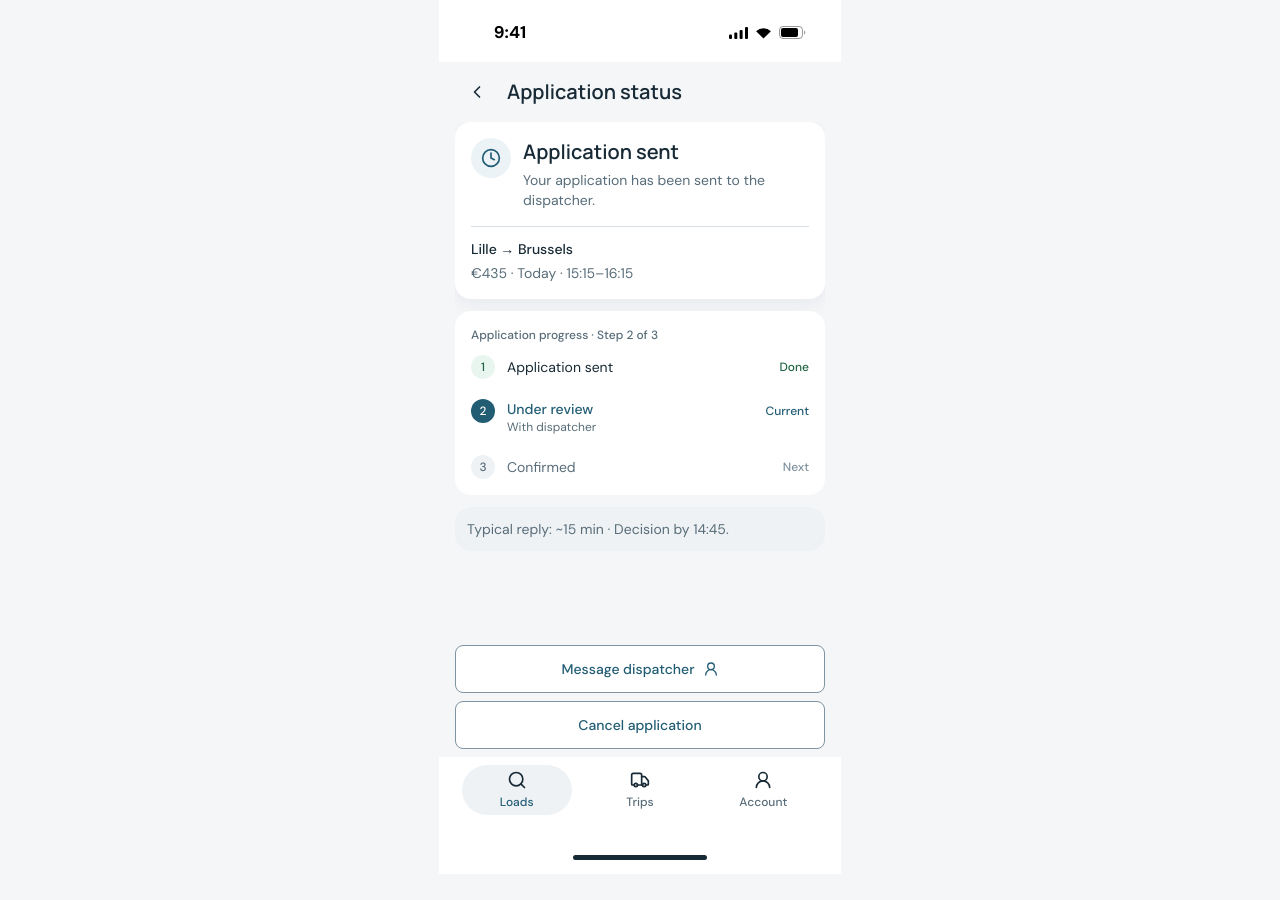
Test: ApplicationTrackerView cancel confirmation › keeps the application when the sheet is dismissed
Click the button "Cancel application" at (640, 725), box [455, 701, 825, 749]
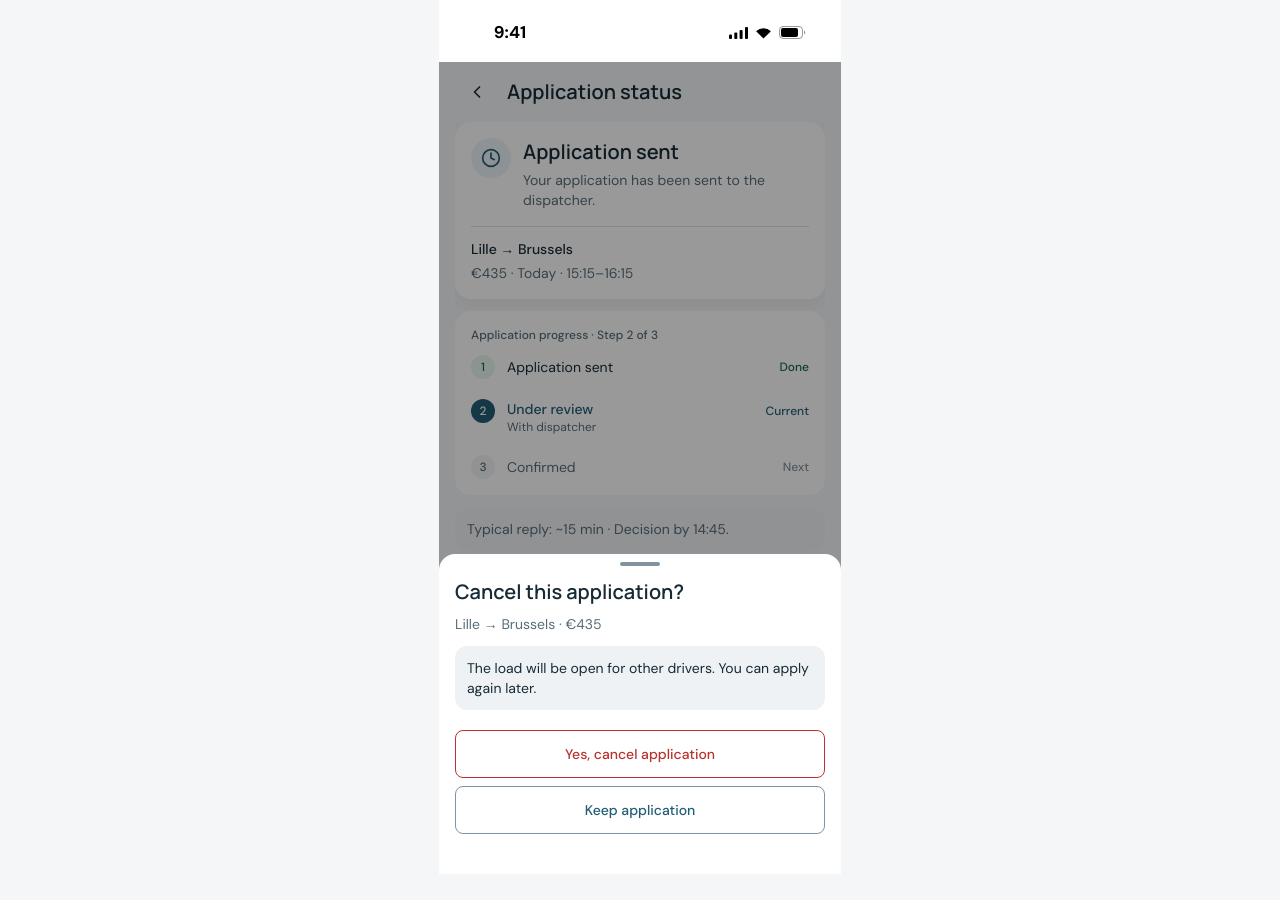
Click the button "Keep application" at (640, 810), box [455, 786, 825, 834]
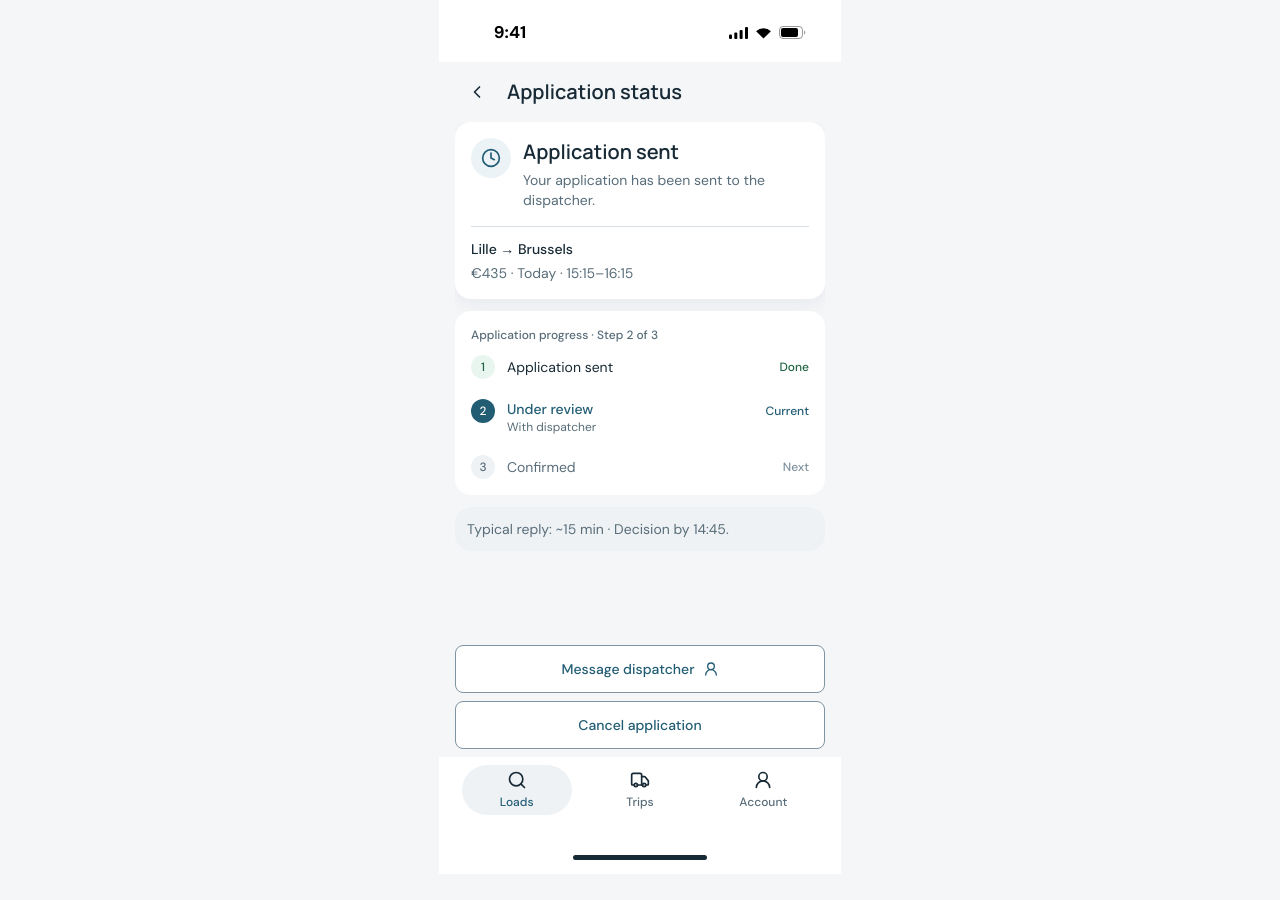
Expected: the dialog is gone
